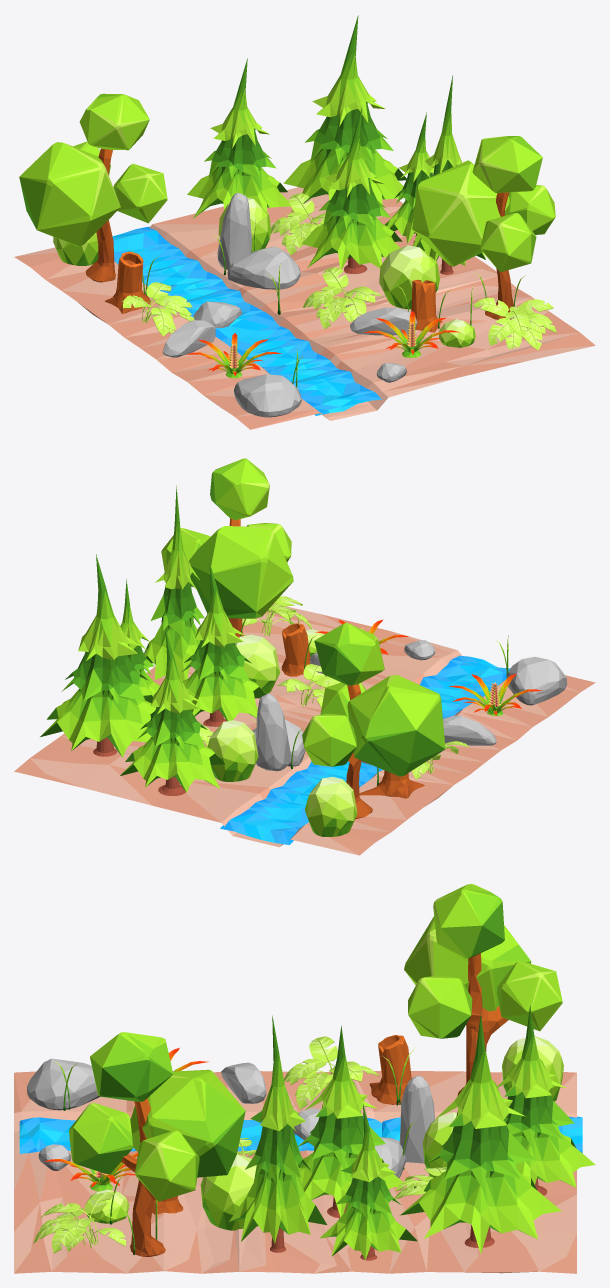
File: GltfBablyon.gltf
The picture shows the model from 3 angles, top to bottom: view 1: azimuth 30°, elevation 25°; view 2: azimuth 150°, elevation 25°; view 3: azimuth 270°, elevation 25°; orthographic projection. The views are drawn at different scales.
Visible parts, largest first — view 1: Set001; view 2: Set001; view 3: Set001.
Boxes of the visible parts, x1,y1,x2,y2 form: Set001: (14,15,595,429); Set001: (14,458,595,855); Set001: (14,884,595,1273).
Size of the model in its own units: 403 by 204 by 425.
1 material, 1 textured.
